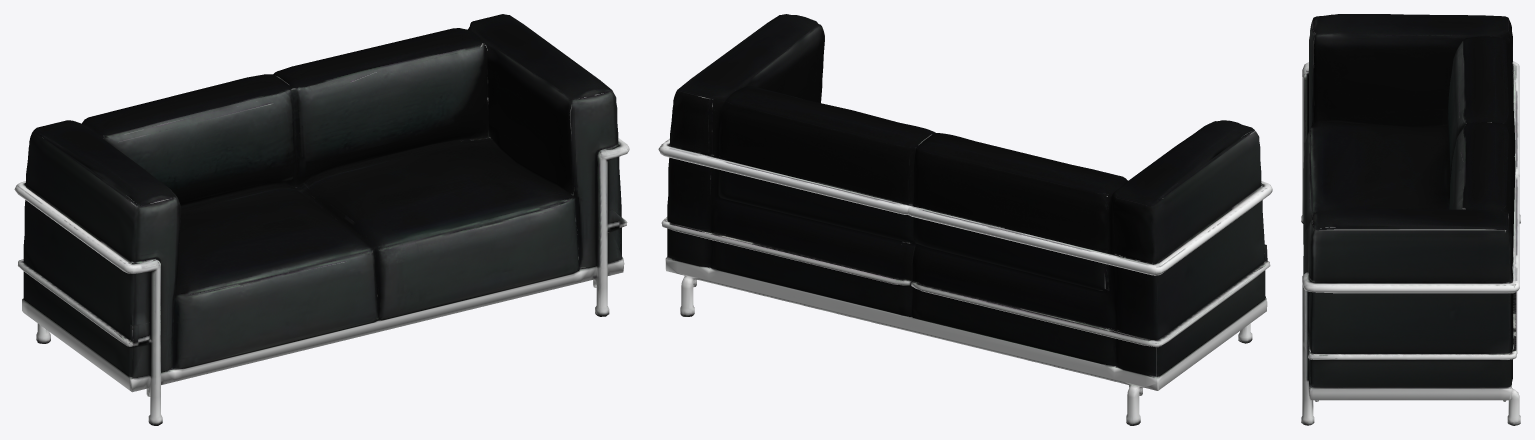
The model's file is Loveseat_Black_Leather_32InchTall_0222185838_texture.glb.
3 renders of one model, left to right at view 1: azimuth 30°, elevation 25°; view 2: azimuth 150°, elevation 25°; view 3: azimuth 270°, elevation 25°, orthographic. The views are drawn at different scales.
Parts seen in each view (by area): view 1: Mesh_0.001; view 2: Mesh_0.001; view 3: Mesh_0.001.
Boxes of the visible parts, x1,y1,x2,y2 form: Mesh_0.001: (14,14,629,425); Mesh_0.001: (658,14,1272,425); Mesh_0.001: (1301,14,1520,425).
Size of the model in its own units: 1.91 by 0.8128 by 0.7814.
1 material, 1 textured.
